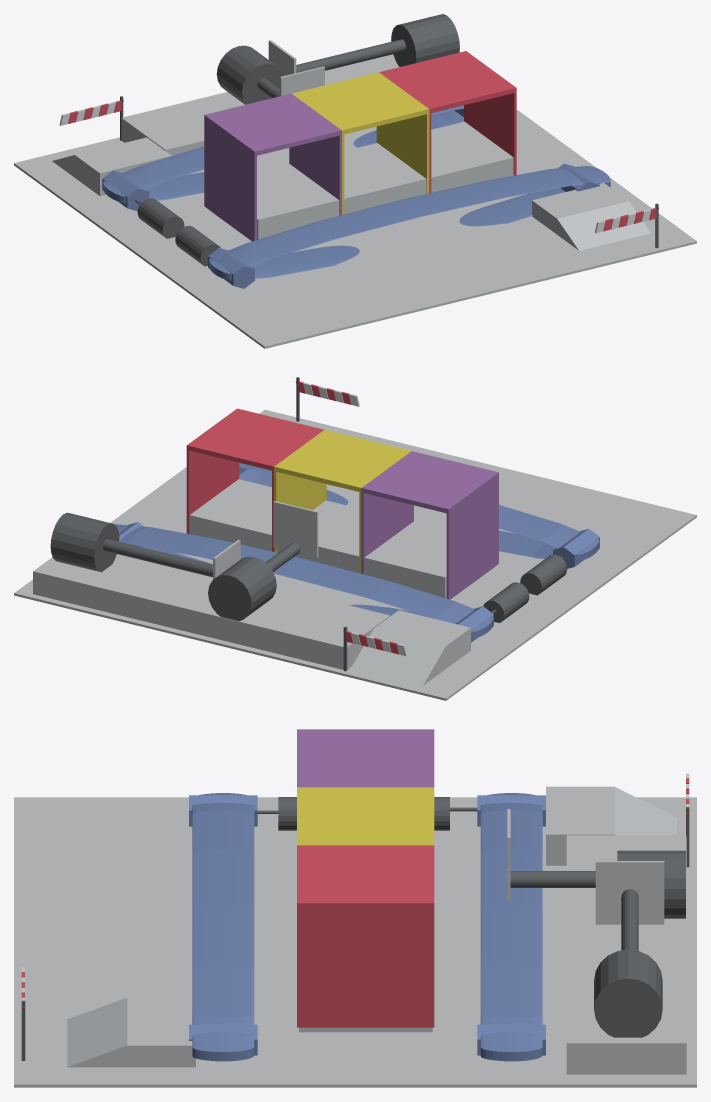
The model's file is Parking Automático v1.1.glb.
3 renders of one model, top to bottom at view 1: azimuth 30°, elevation 25°; view 2: azimuth 150°, elevation 25°; view 3: azimuth 270°, elevation 25°, orthographic. The views are drawn at different scales.
Visible parts, largest first — view 1: Mesh_Mesh_head_geo.001_lambert2SG.001; view 2: Mesh_Mesh_head_geo.001_lambert2SG.001; view 3: Mesh_Mesh_head_geo.001_lambert2SG.001.
Part boxes in pixels (box(x1,y1,x2,y2)): Mesh_Mesh_head_geo.001_lambert2SG.001: box(14, 14, 696, 348); Mesh_Mesh_head_geo.001_lambert2SG.001: box(14, 377, 696, 700); Mesh_Mesh_head_geo.001_lambert2SG.001: box(14, 729, 696, 1087).
Size of the model in its own units: 198 by 43 by 199.
